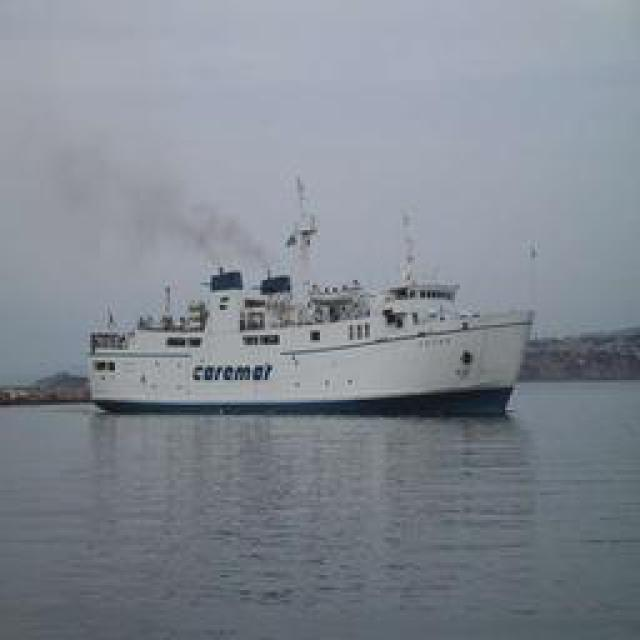Ship: (81, 187, 539, 420)
